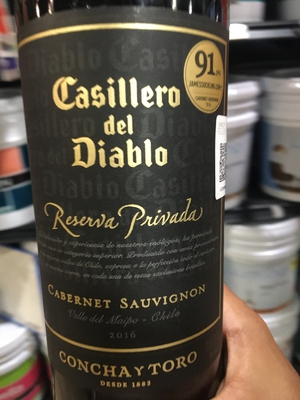casillero del diablo reserva privada cabernet sauvignon: (16, 3, 249, 400)
